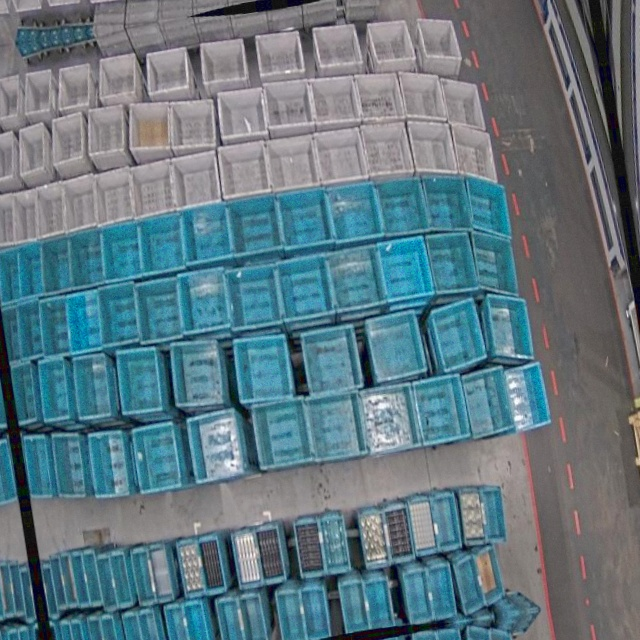Box: (298, 322, 365, 400), (230, 330, 296, 407), (364, 307, 429, 385), (356, 382, 420, 459), (428, 295, 489, 375), (274, 251, 339, 325), (324, 242, 388, 317), (185, 408, 247, 485), (253, 396, 316, 471), (410, 371, 471, 448), (168, 337, 227, 413), (461, 364, 519, 441), (305, 390, 364, 465), (274, 184, 337, 254), (225, 260, 286, 332), (377, 233, 437, 306), (423, 227, 481, 300), (324, 178, 384, 248), (227, 192, 287, 261), (374, 171, 432, 241), (419, 168, 476, 239), (175, 267, 233, 336), (360, 117, 417, 187), (447, 119, 502, 191), (178, 201, 237, 268), (311, 125, 369, 193), (131, 420, 184, 494), (114, 345, 168, 417), (470, 227, 520, 303), (487, 289, 535, 367), (131, 276, 185, 345), (503, 362, 555, 433), (465, 169, 513, 245), (136, 210, 191, 276), (404, 115, 458, 182), (163, 94, 221, 155), (264, 131, 321, 193), (215, 139, 272, 201), (214, 84, 271, 146), (168, 149, 224, 211), (262, 74, 318, 136), (85, 428, 134, 498), (306, 70, 362, 131), (352, 67, 408, 127), (94, 281, 143, 349), (398, 65, 450, 127), (98, 220, 148, 284), (69, 352, 115, 421), (91, 49, 143, 110), (122, 97, 176, 155), (127, 159, 179, 219), (441, 72, 488, 136), (89, 166, 137, 227), (50, 59, 100, 117), (48, 431, 89, 501), (64, 290, 108, 355), (58, 174, 103, 235), (66, 227, 110, 289), (35, 357, 74, 424), (30, 182, 73, 242), (36, 234, 78, 295), (254, 28, 306, 77), (197, 37, 249, 86), (312, 22, 364, 70), (82, 104, 129, 157), (416, 13, 463, 65), (5, 188, 47, 246), (37, 296, 75, 358), (366, 17, 416, 64), (7, 361, 42, 427), (142, 48, 191, 95), (46, 112, 89, 165), (316, 511, 351, 576), (430, 489, 465, 553), (20, 434, 53, 501), (456, 483, 490, 548), (381, 502, 416, 565), (359, 505, 393, 569), (12, 239, 48, 299), (406, 494, 440, 557), (294, 515, 327, 579), (13, 122, 51, 177), (14, 300, 48, 361), (255, 522, 288, 584), (453, 554, 486, 616), (478, 485, 511, 547), (232, 527, 264, 589), (0, 71, 32, 132), (196, 533, 227, 595), (475, 545, 506, 607), (426, 563, 458, 621), (18, 68, 58, 114), (300, 585, 333, 640), (176, 536, 205, 598), (402, 571, 433, 628), (363, 575, 395, 630), (148, 541, 175, 602), (338, 581, 369, 634), (274, 591, 306, 640), (129, 545, 155, 605), (94, 553, 119, 613), (238, 593, 269, 640), (68, 548, 91, 608), (80, 547, 103, 607), (0, 246, 24, 303), (108, 548, 131, 607), (215, 597, 246, 640), (57, 551, 79, 609), (47, 554, 68, 612), (0, 130, 21, 185), (182, 601, 211, 640), (41, 562, 60, 620), (164, 601, 192, 640), (0, 193, 20, 247), (136, 608, 164, 640), (121, 610, 147, 640), (100, 613, 124, 640), (86, 615, 109, 640), (68, 618, 90, 640), (59, 620, 80, 640), (49, 622, 64, 640), (0, 82, 3, 140), (0, 194, 1, 248)
